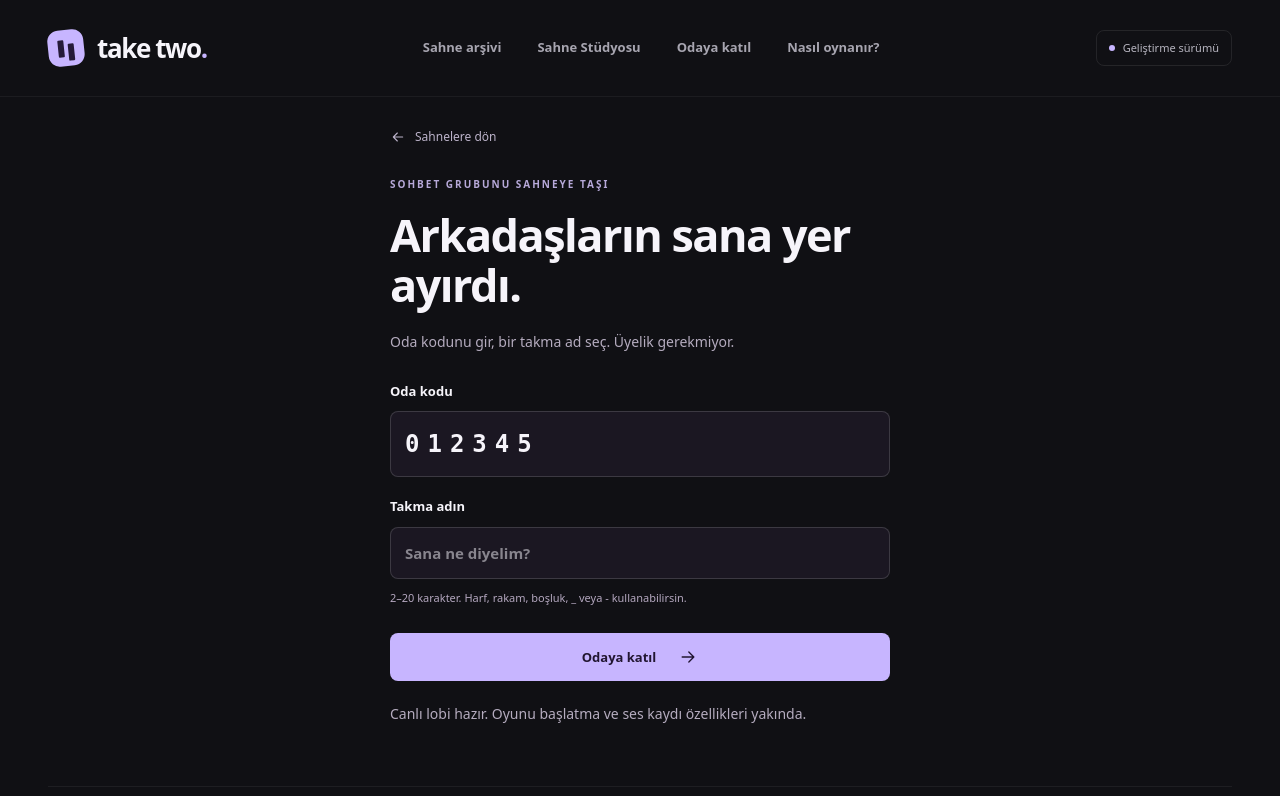
Scenario: room entry › shows nickname conflicts from the server without navigating
Type "Guest" into the field labelled "Takma adın".
click(640, 553); type("Guest")  # box 390,527 -> 890,580
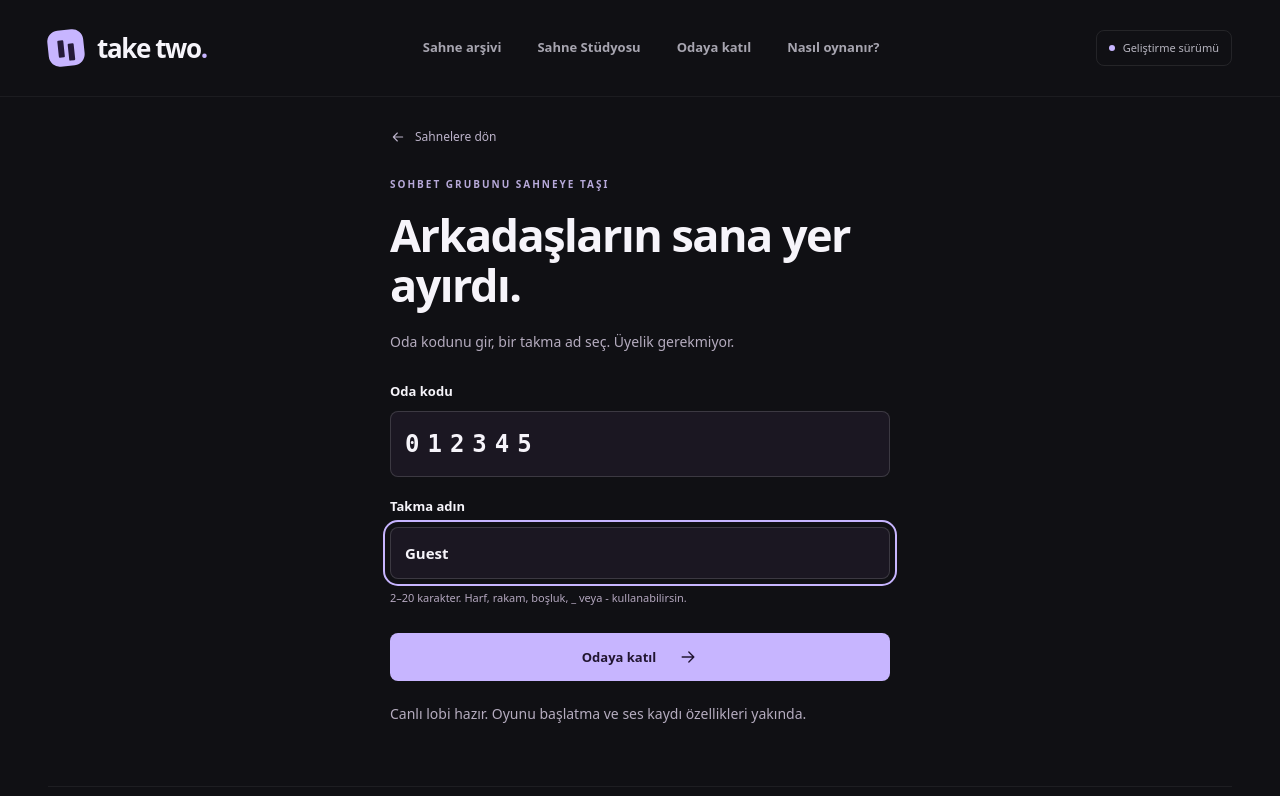
Click the button "Odaya katıl".
click(640, 657)  # box 390,633 -> 890,681
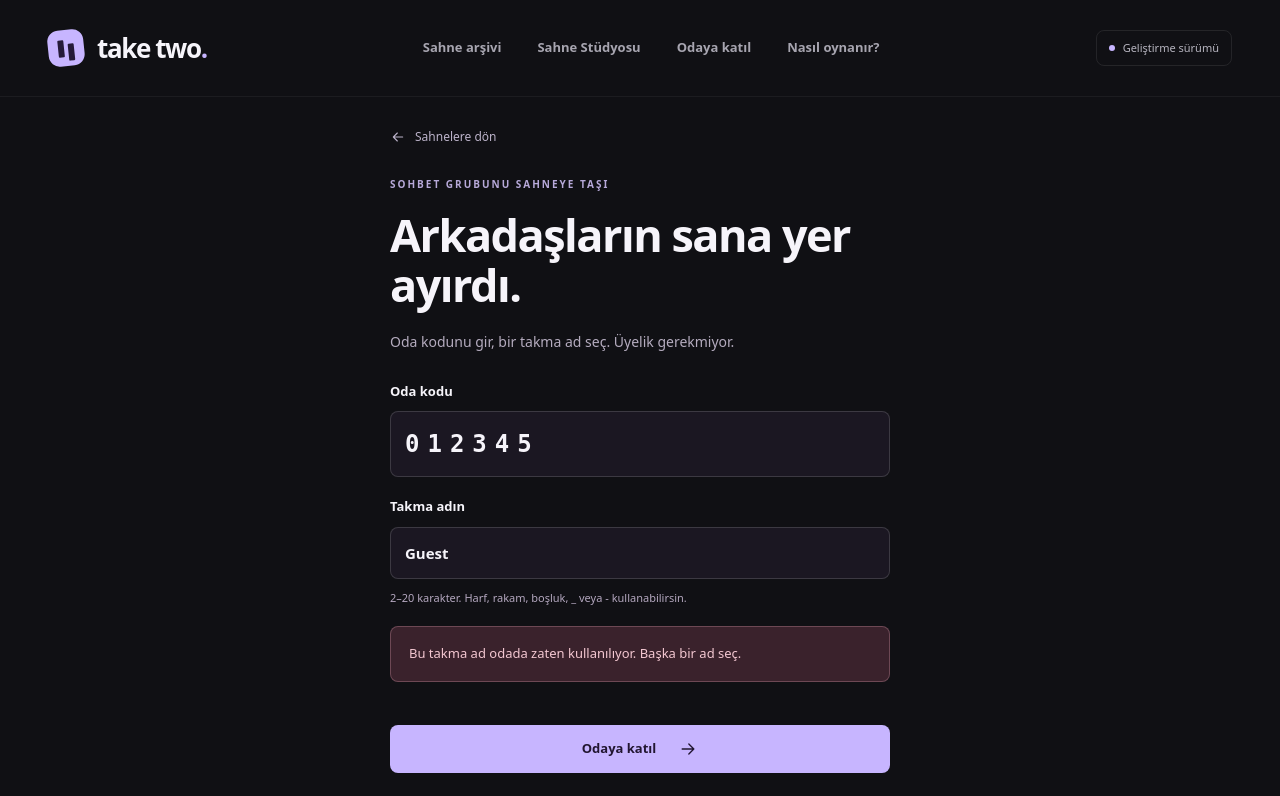
Check: the button "Odaya katıl" is enabled, box 390,725 -> 890,773
Check: the message shows "takma ad odada zaten", box 409,644 -> 741,662
